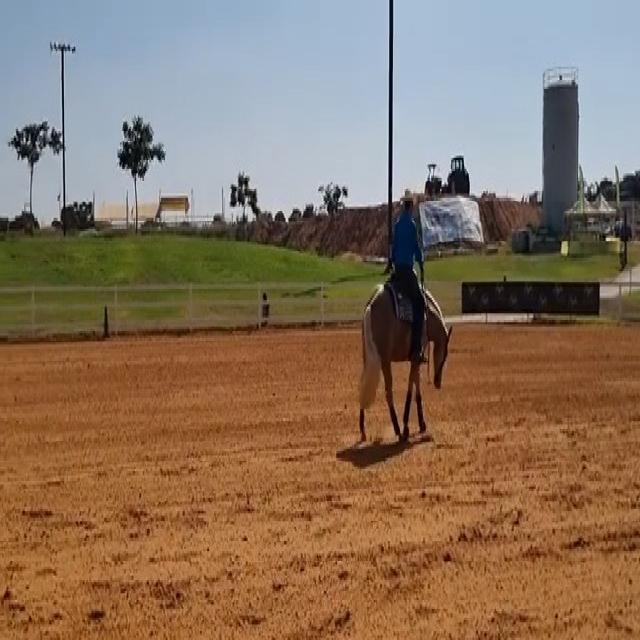horse: (356, 269, 452, 444)
